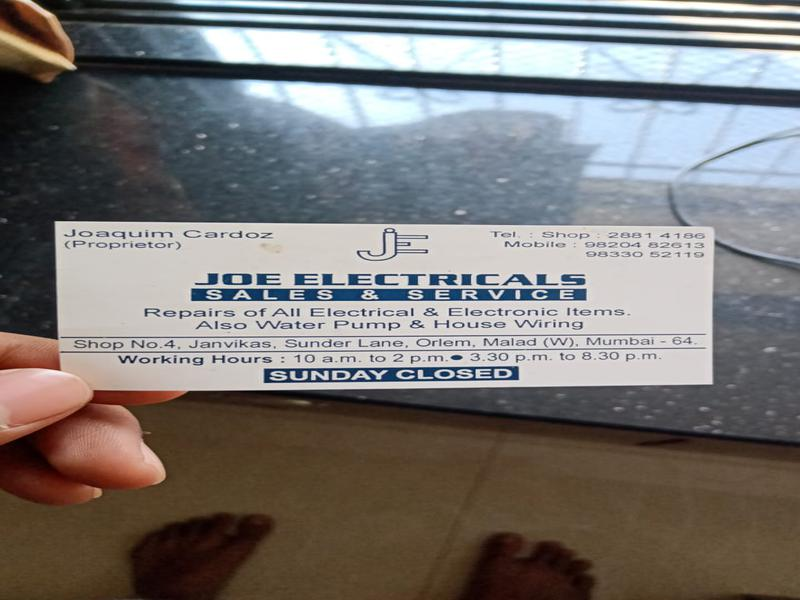card: (55, 218, 715, 387)
